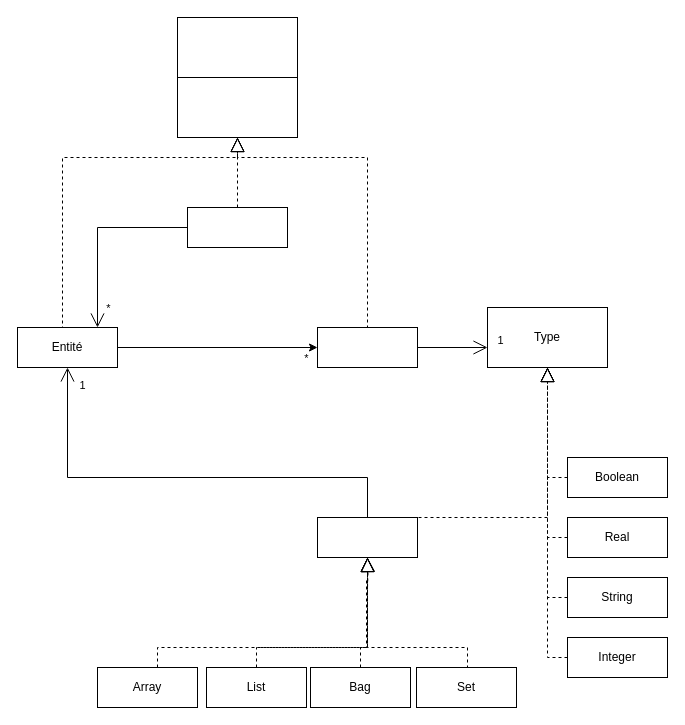
Some shapes in this 685 by 725 pixel diagram are drawn without their labels. The centre of each missing label's shape, as x and y in pixels:
"Attribut" goes at point (367, 347).
"Collection" goes at point (367, 537).
"Modèle" goes at point (237, 227).
"NamedElement" goes at point (237, 47).
"String Nom Int Id" goes at point (237, 107).
